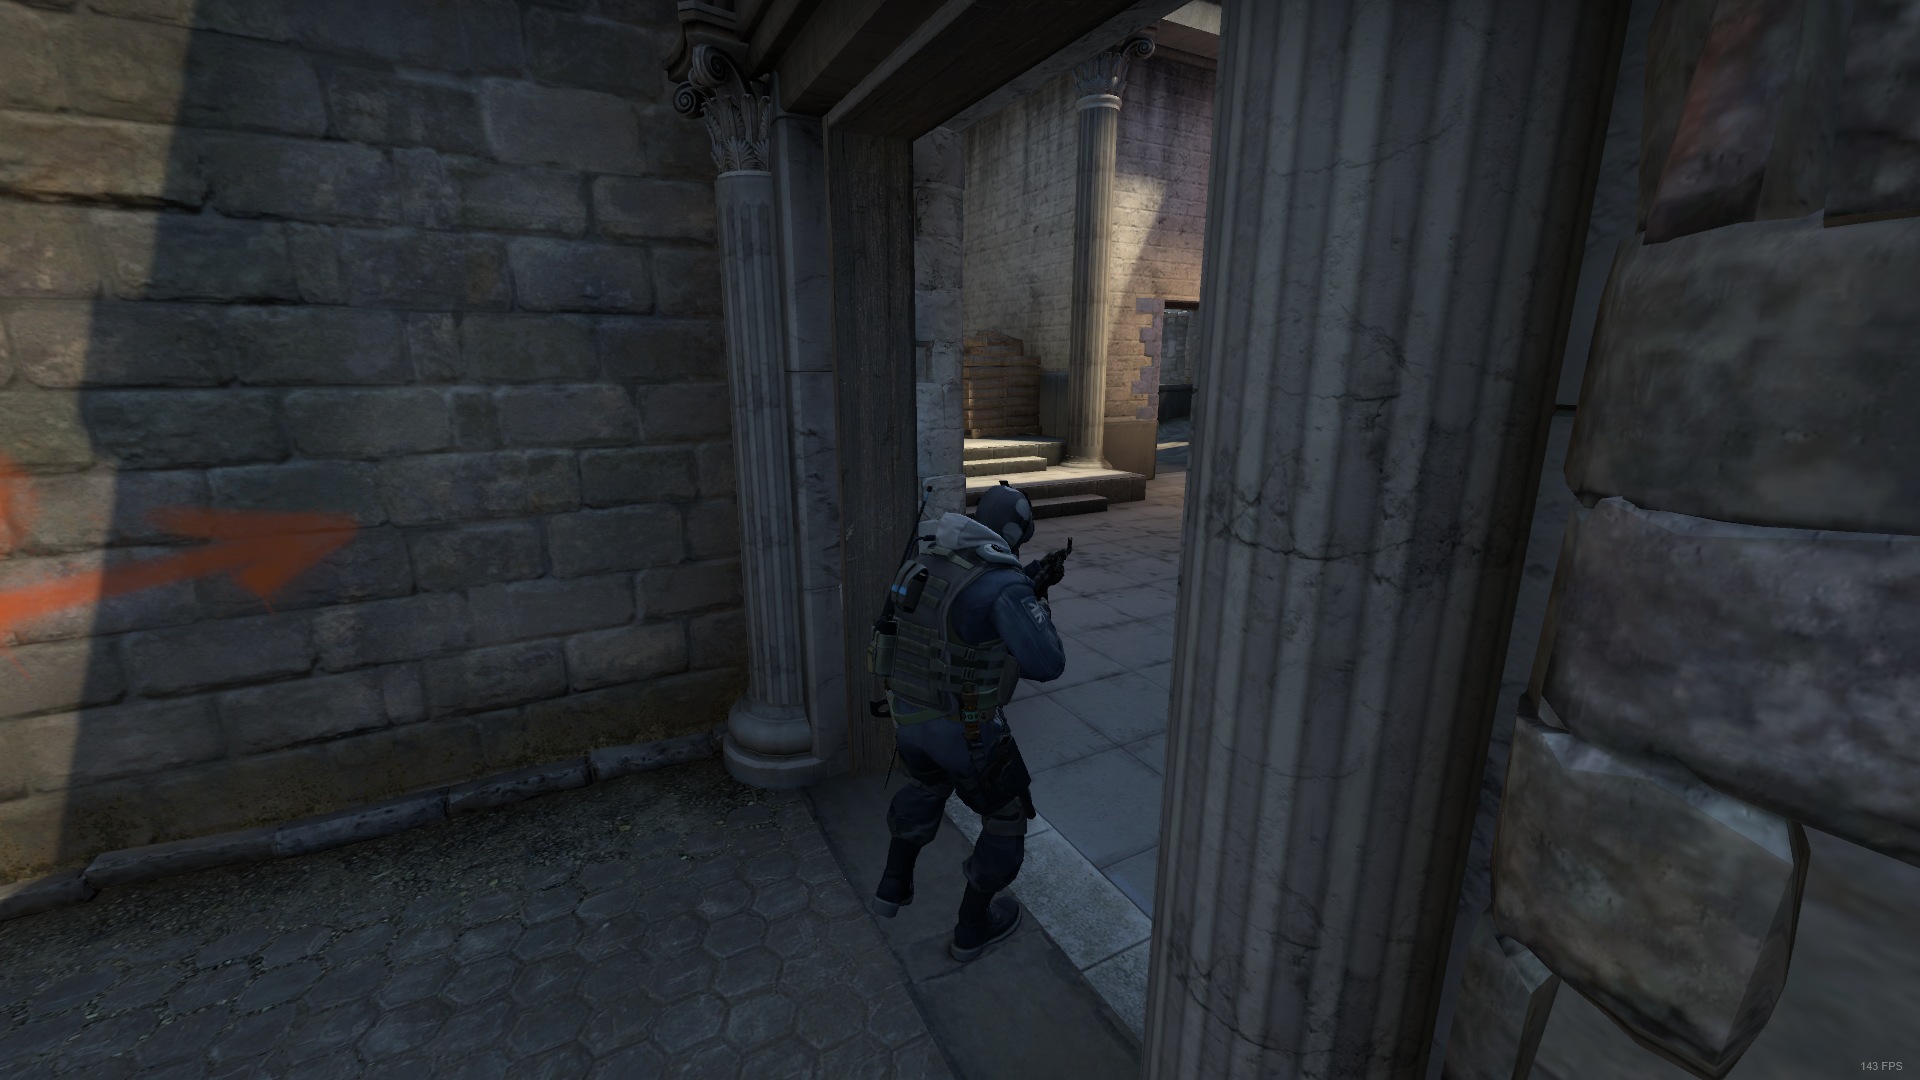ct: (855, 472, 1081, 961)
